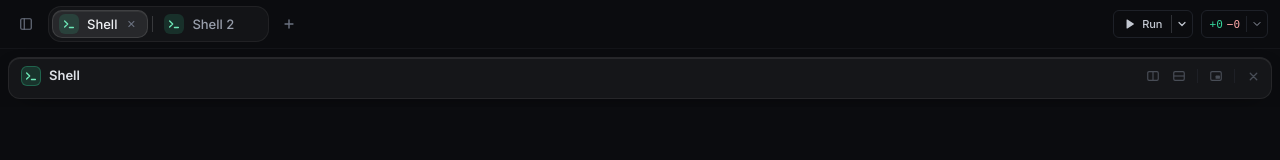
Test: TerminalView › tab groups: a split layout is one tab in the strip › double-click renames the group; the name survives a reload
Press d
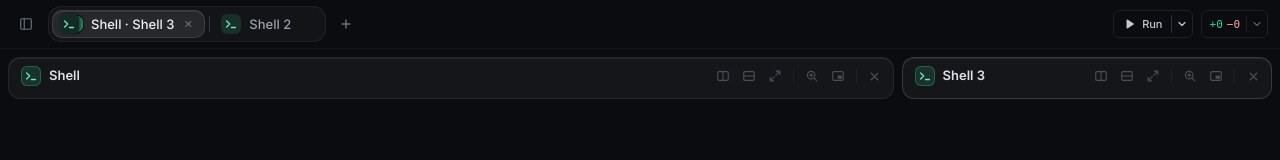
Double-click the button with test id "tab-title" at point(131, 24), box [83,11,178,37]
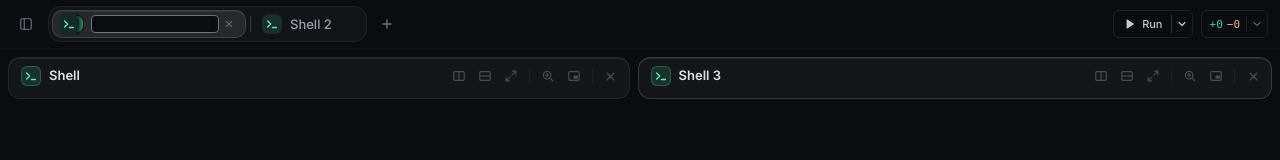
Type "Review" into the field named "Rename group". click: point(155, 24)
box: [91,15,219,33]
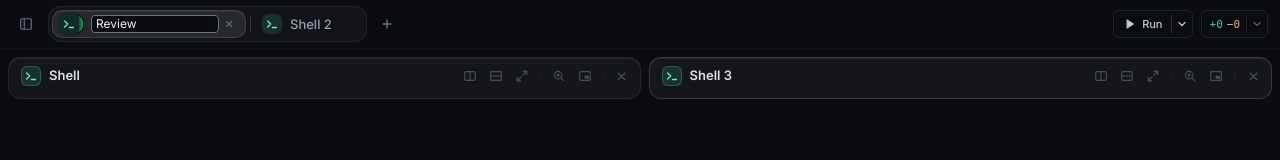
Press Enter in the field named "Rename group", box [91,15,219,33]
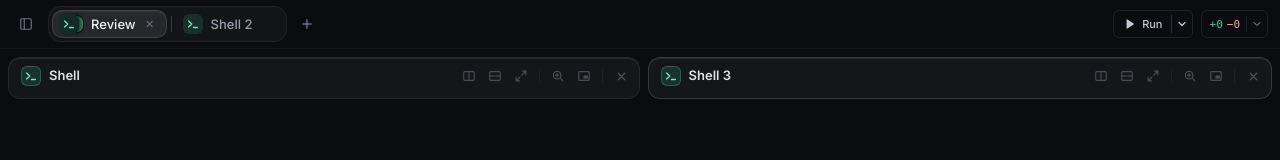
Now the element with test id "tab-group" shows "Review", box [83,11,140,37]
Now the text "Review" is shown, box [91,14,136,34]
